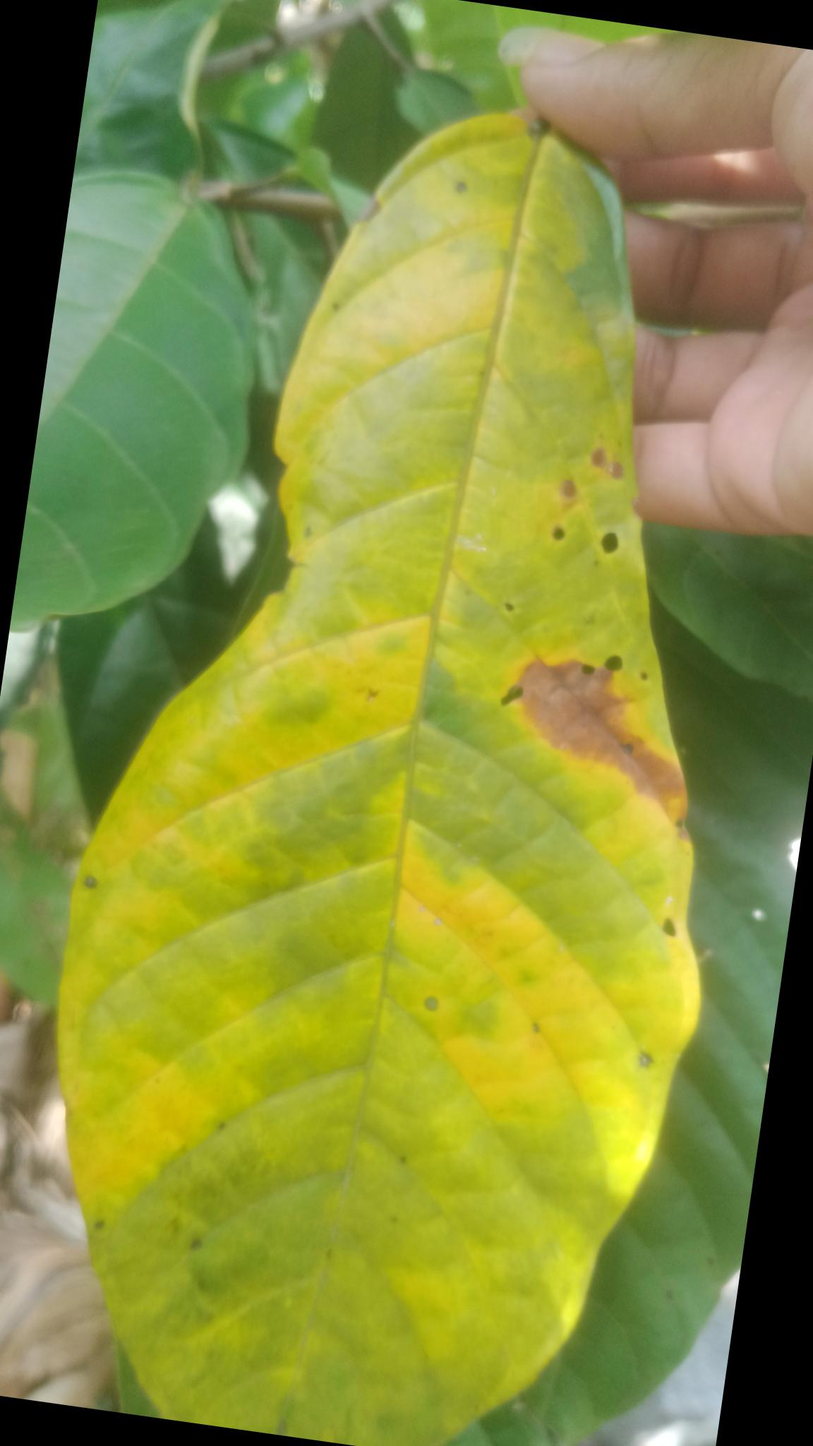Fosforo: (78, 108, 696, 1446)
